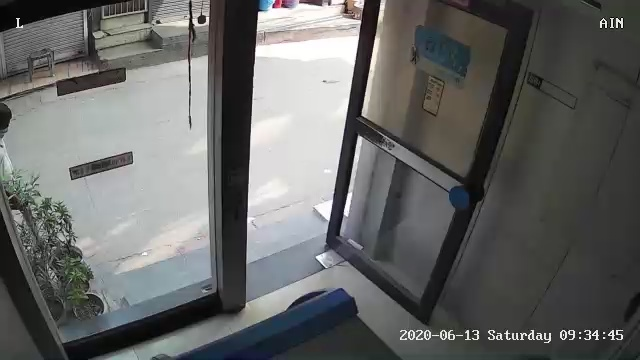open: (197, 3, 543, 326)
